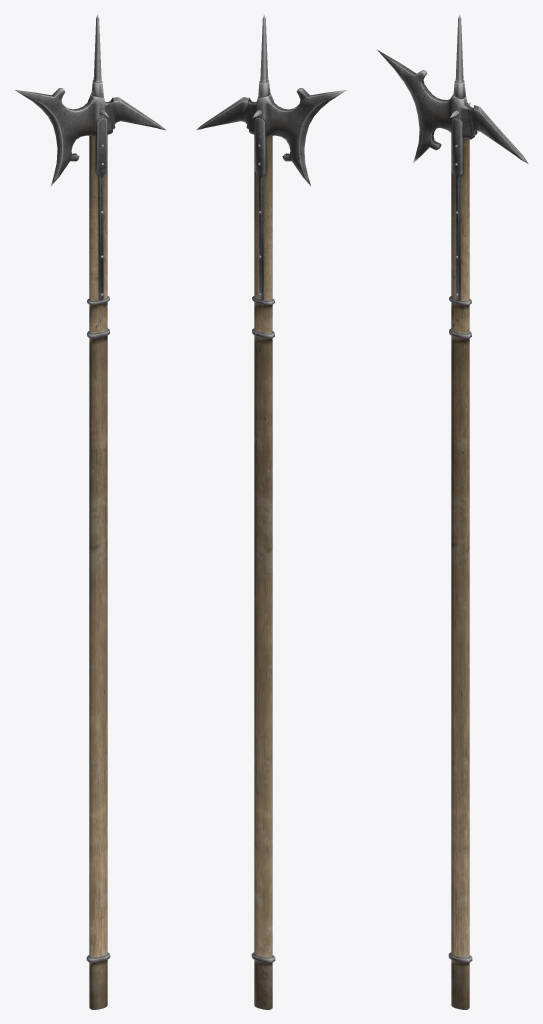
File: SM_Halberd_02.fbx
3 views of the same model, side by side, from view 1: azimuth 30°, elevation 25°; view 2: azimuth 150°, elevation 25°; view 3: azimuth 330°, elevation 25° (orthographic).
Parts seen in each view (by area): view 1: SM_Halberd_02_LOD0; view 2: SM_Halberd_02_LOD0; view 3: SM_Halberd_02_LOD0.
Part boxes in pixels (x1,y1,x2,y2): SM_Halberd_02_LOD0: (15, 14, 165, 1009); SM_Halberd_02_LOD0: (196, 14, 346, 1009); SM_Halberd_02_LOD0: (377, 14, 528, 1009).
Size of the model in its own units: 23.92 by 5.81 by 149.
Materials: 1 (1 with a texture image).
